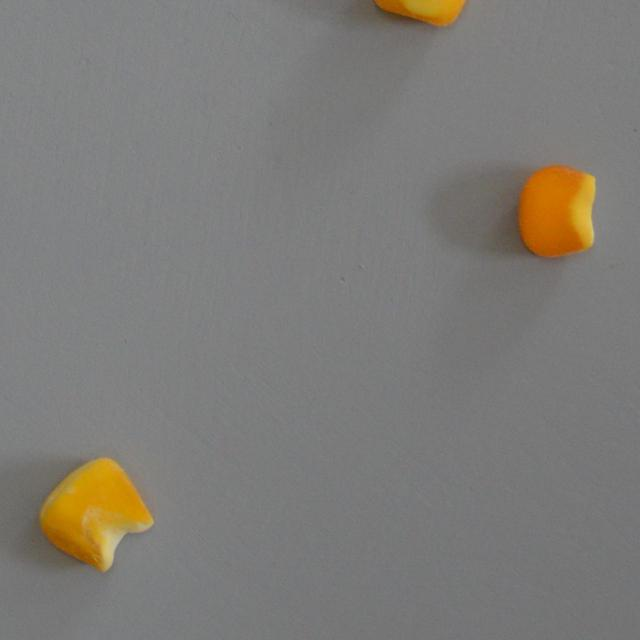no_canjicado: (518, 165, 596, 258), (367, 0, 472, 28)
pelicula: (38, 456, 154, 574)
